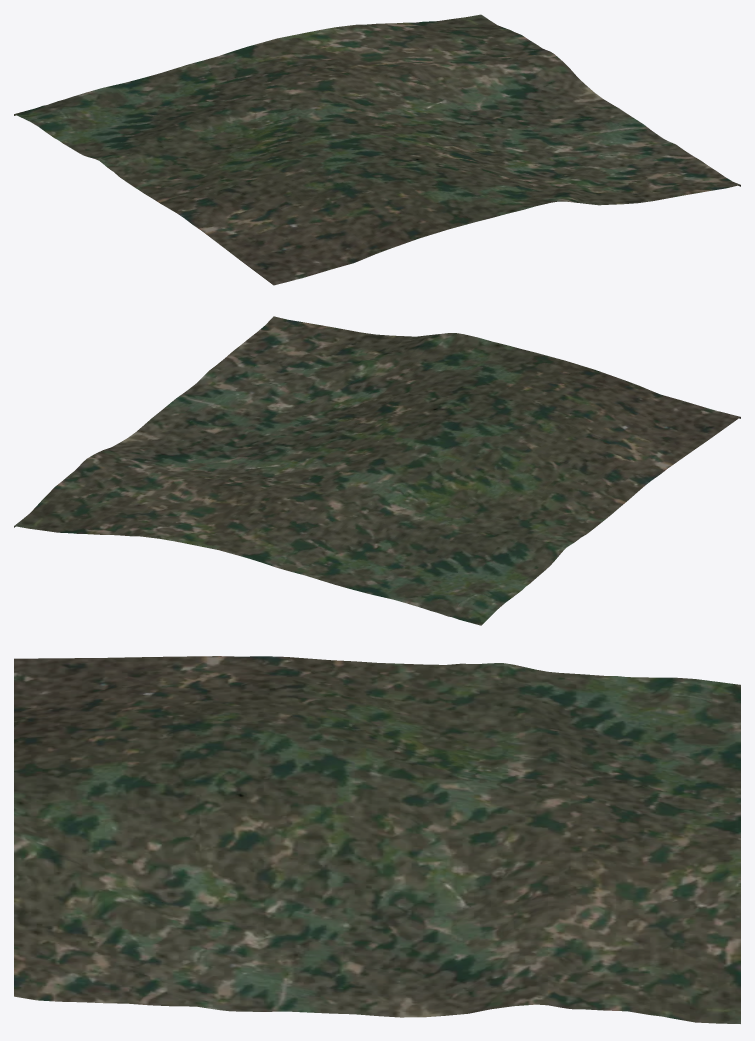
The picture shows the model from 3 angles, top to bottom: view 1: azimuth 30°, elevation 25°; view 2: azimuth 150°, elevation 25°; view 3: azimuth 270°, elevation 25°; orthographic projection. The views are drawn at different scales.
Bounding box in the file's own units: 250 × 27.26 × 241.
1 material, 1 textured.
